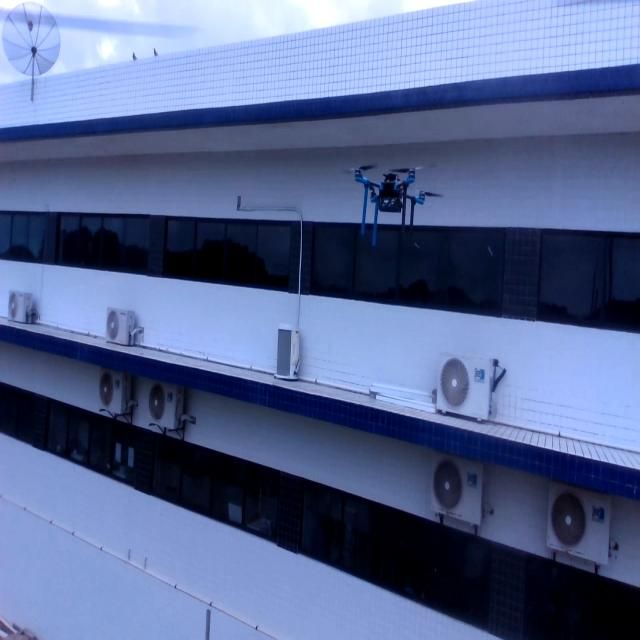-uav-: (334, 142, 436, 249)
